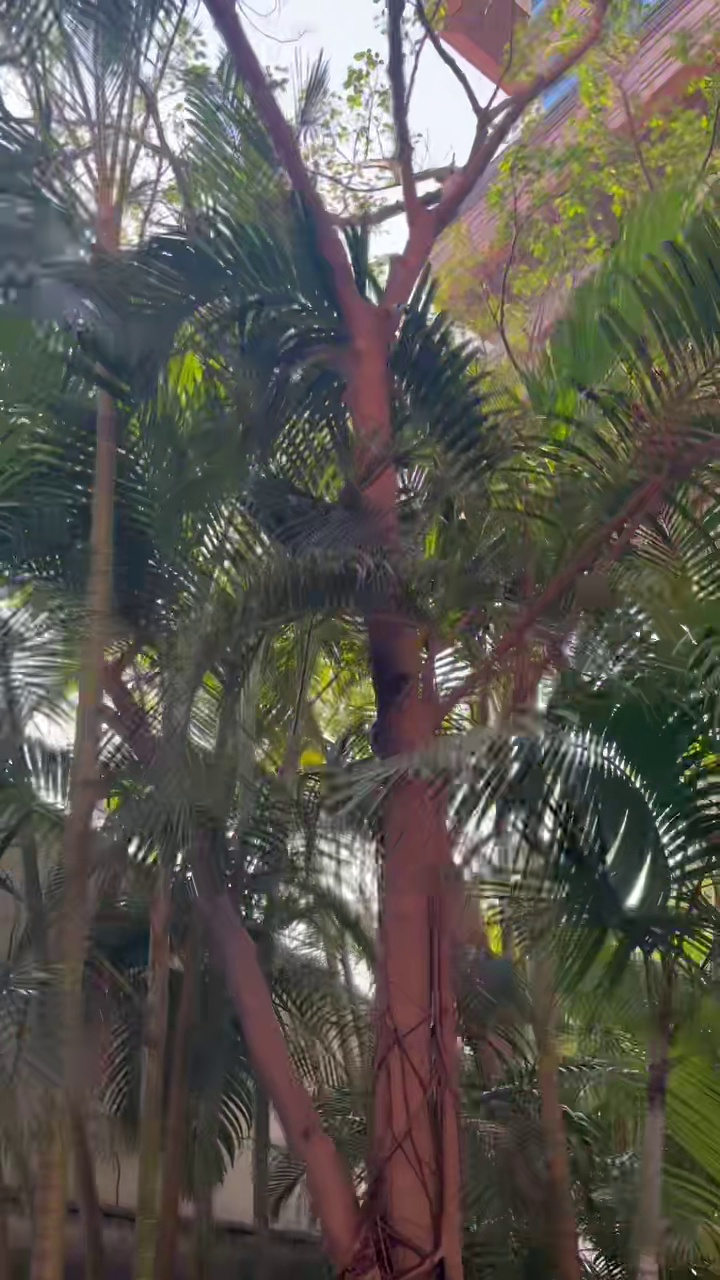Ficus benjamina: (207, 0, 604, 1279)
